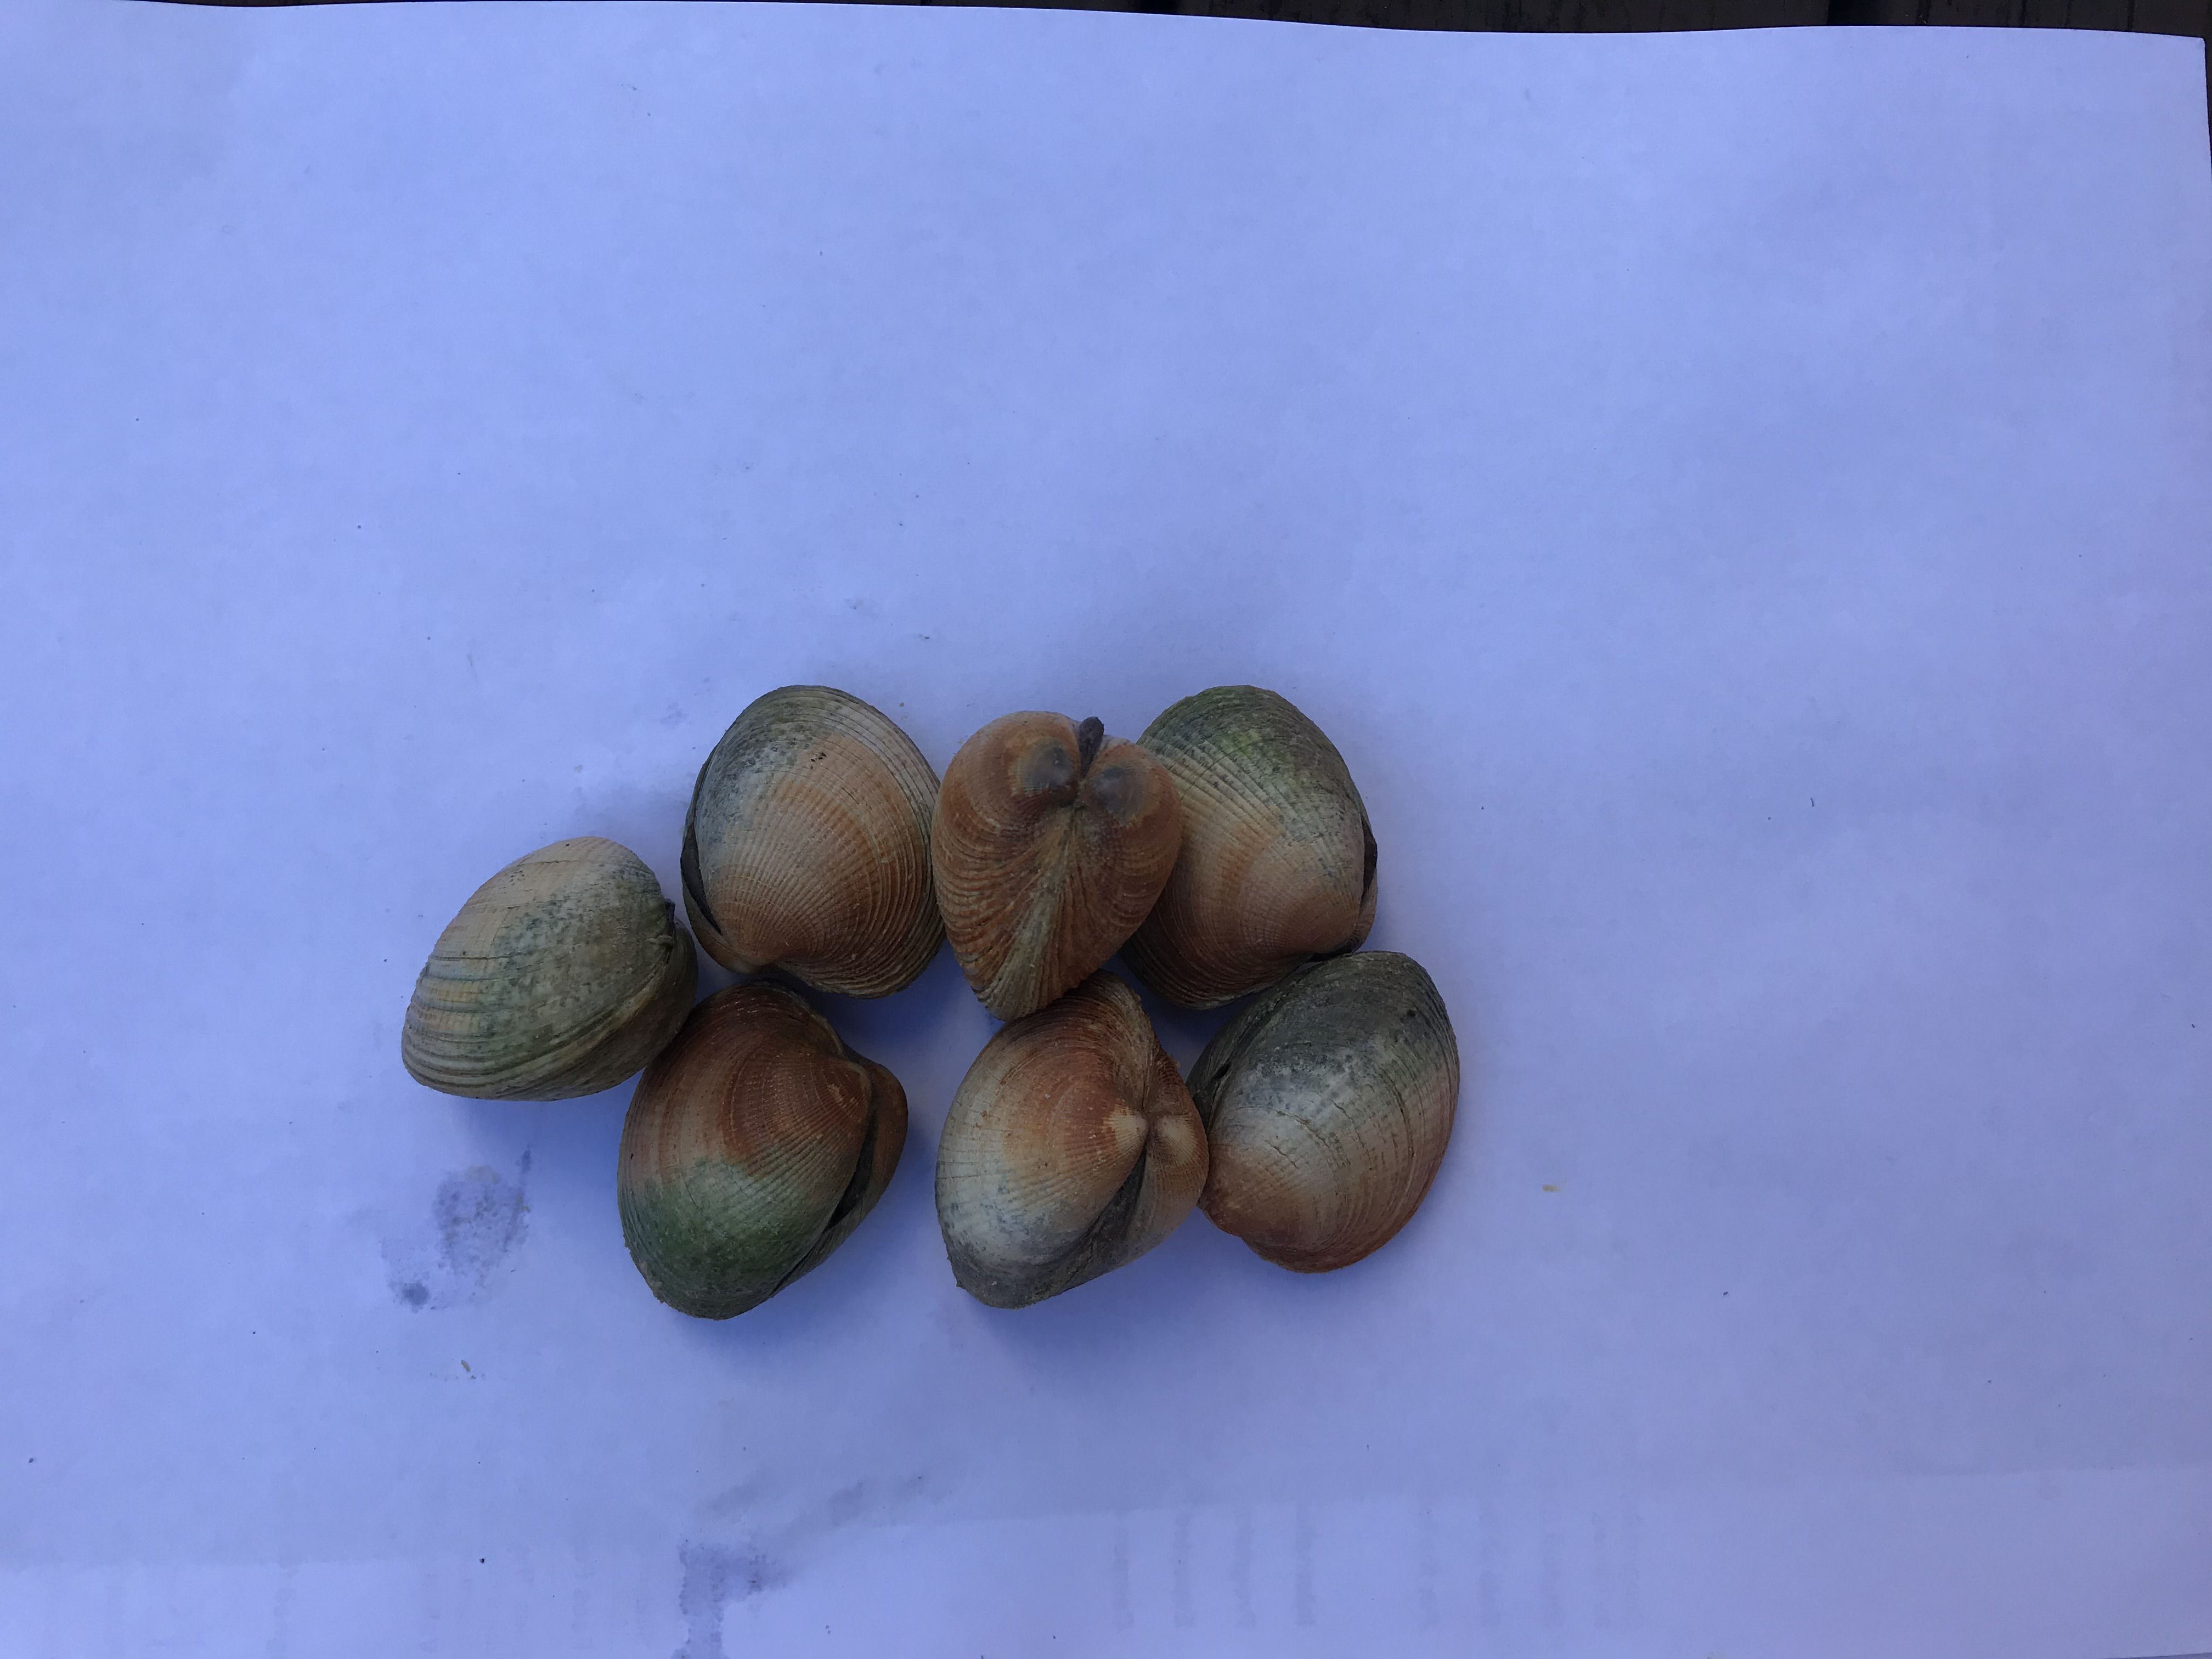cockle: (615, 981, 909, 1326), (1184, 946, 1468, 1284), (930, 978, 1212, 1307), (1129, 680, 1385, 1018), (683, 683, 949, 1002), (930, 706, 1190, 1025), (397, 835, 700, 1101)
